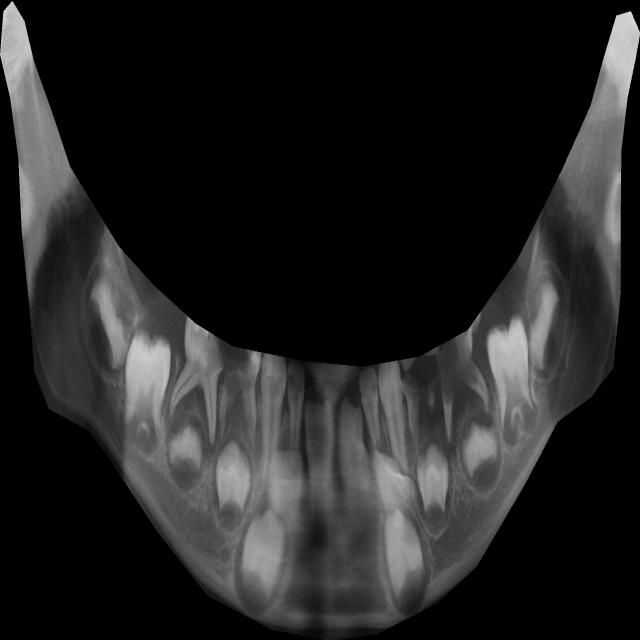mandibula: (0, 1, 640, 640)
